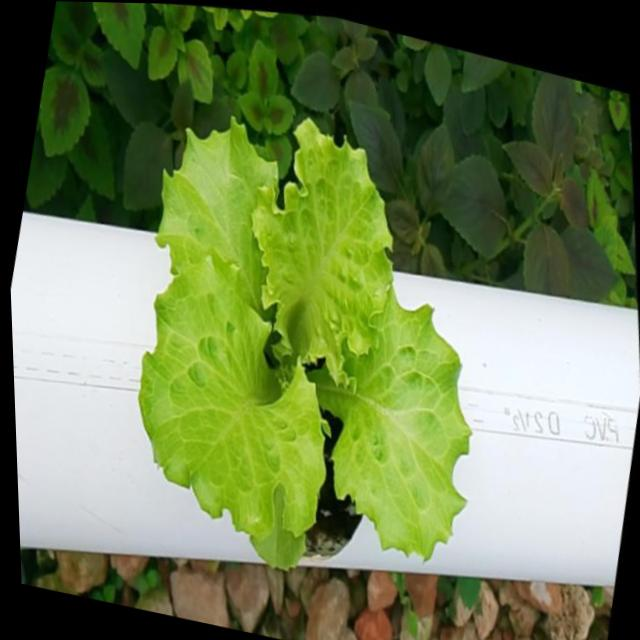Baby: (139, 117, 471, 569)
